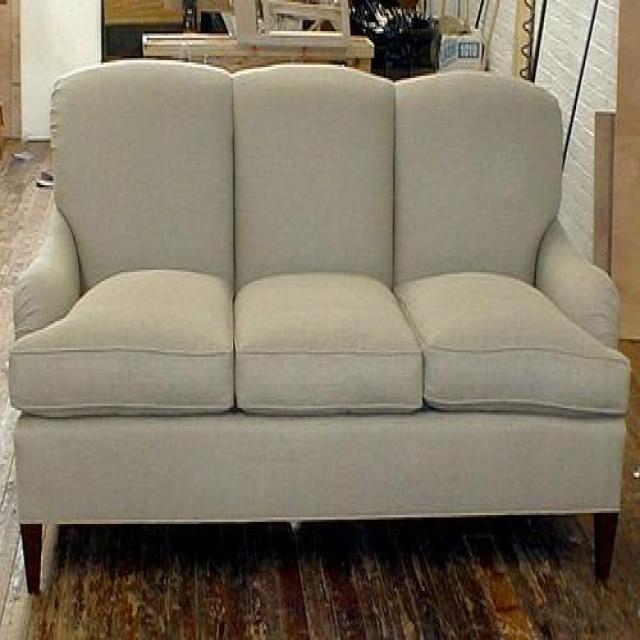sofa: (11, 55, 631, 590)
